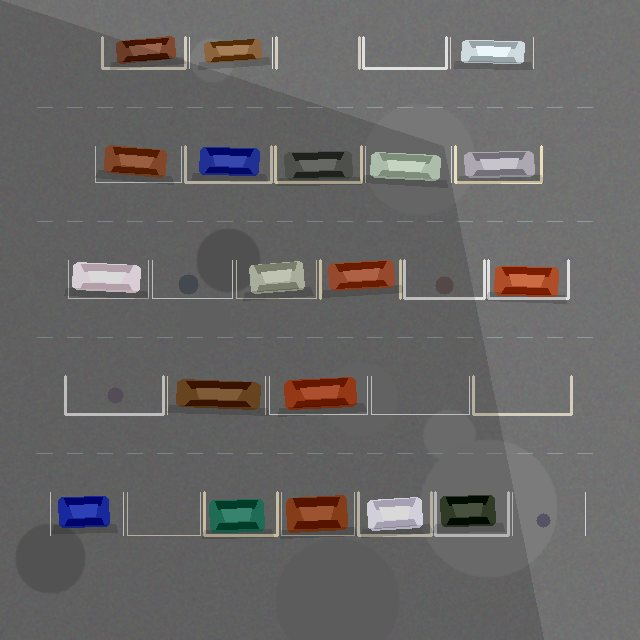space-empty: (65, 376, 163, 414), (371, 376, 469, 414), (473, 376, 571, 414), (127, 492, 200, 535), (512, 492, 585, 535), (152, 260, 232, 298), (404, 260, 484, 298), (276, 37, 359, 68), (363, 37, 446, 68)
space-occupied: (167, 376, 265, 414), (269, 376, 367, 414), (50, 492, 123, 535), (204, 492, 277, 535), (281, 492, 354, 535), (358, 492, 431, 535), (435, 492, 508, 535), (95, 146, 181, 182), (185, 146, 271, 182), (275, 146, 361, 182), (365, 146, 451, 182), (455, 146, 541, 182), (68, 260, 148, 298), (236, 260, 316, 298), (320, 260, 400, 298), (488, 260, 568, 298), (102, 37, 185, 68), (189, 37, 272, 68), (450, 37, 533, 68)
